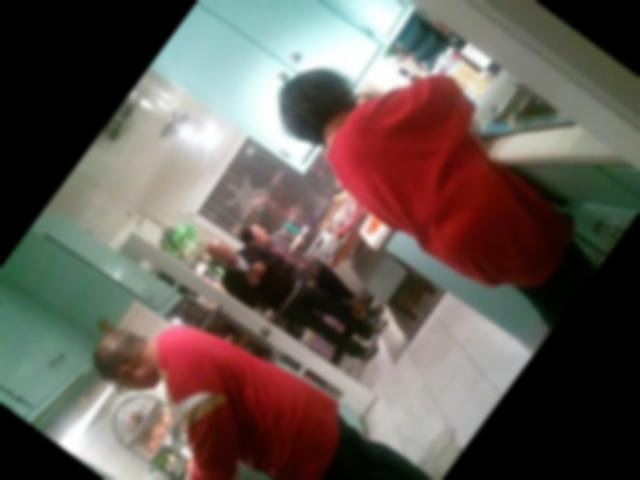Lavaplatos: (464, 8, 640, 190)
